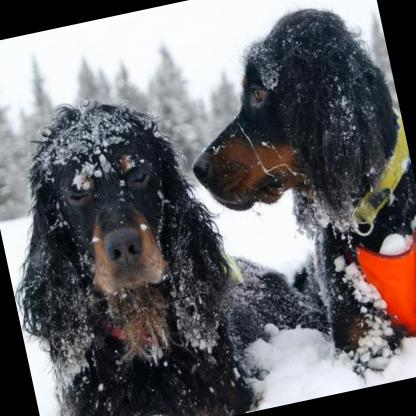Gordon_setter: (0, 57, 341, 416), (162, 0, 416, 410)
